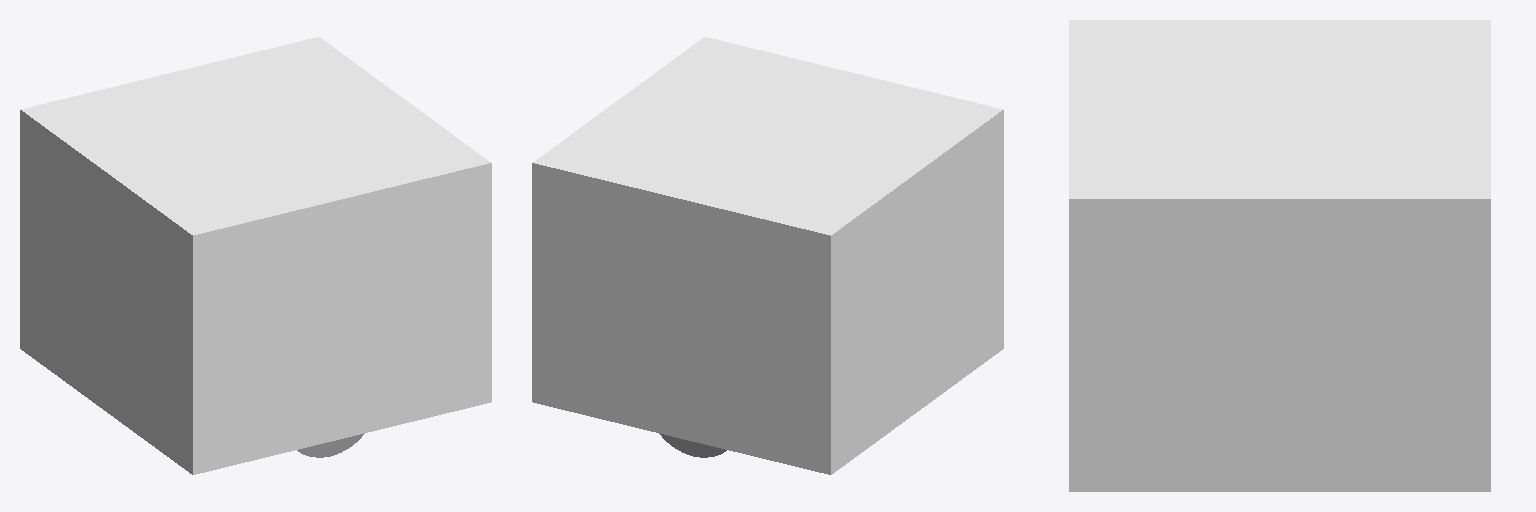
robot.urdf — toio_style:
<?xml version="1.0"?>
<robot name="toio_style">

  <!--base-->
  <link name="base_link">
    <visual>
      <geometry>
        <box size="0.3 0.3 0.23" />
      </geometry>
      <material name="white">
        <color rgba="1.0 1.0 1.0 1.0" />
      </material>
    </visual>
    <collision>
      <geometry>
        <box size="0.3 0.3 0.23" />
      </geometry>
    </collision>
    <inertial>
      <mass value="1.0" />
      <inertia ixx="0.015" iyy="0.0375" izz="0.0375" ixy="0" ixz="0" iyz="0" />
    </inertial>
  </link>

  <!--right wheel-->
  <link name="right_wheel">
    <visual>
      <geometry>
        <cylinder length="0.01" radius="0.05" />
      </geometry>
      <material name="gray">
        <color rgba="0.7 0.7 0.7 1" />
      </material>
    </visual>
    <collision>
      <geometry>
        <cylinder length="0.005" radius="0.05" />
      </geometry>
    </collision>
    <inertial>
      <mass value="0.1" />
      <inertia ixx="5.1458e-5" iyy="5.1458e-5" izz="6.125e-5" ixy="0" ixz="0" iyz="0" />
    </inertial>
  </link>
  <joint name="right_wheel_joint" type="continuous">
    <axis xyz="0 0 1" />
    <parent link="base_link" />
    <child link="right_wheel" />
    <origin rpy="-1.5708 0 0" xyz="0.0 -0.125 -.09" />
  </joint>

  <!--left wheel-->
  <link name="left_wheel">
    <visual>
      <geometry>
        <cylinder length="0.01" radius="0.05" />
      </geometry>
      <material name="gray" />
    </visual>
    <collision>
      <geometry>
        <cylinder length="0.005" radius="0.05" />
      </geometry>
    </collision>
    <inertial>
      <mass value="0.1" />
      <inertia ixx="5.1458e-5" iyy="5.1458e-5" izz="6.125e-5" ixy="0" ixz="0" iyz="0" />
    </inertial>
  </link>
  <joint name="left_wheel_joint" type="continuous">
    <axis xyz="0 0 1" />
    <parent link="base_link" />
    <child link="left_wheel" />
    <origin rpy="-1.5708 0 0" xyz="0.0 0.125 -.09" />
  </joint>
</robot>

--- Facts derived from the render (not from the file) ---
Views: 3 orthographic renders of the robot side by side, from view 1: azimuth 30°, elevation 25°; view 2: azimuth 150°, elevation 25°; view 3: azimuth 270°, elevation 25°.
Robot: toio_style — 3 links, 2 joints (2 continuous); root link base_link; default pose: every joint at zero.
Visible links, largest first — view 1: base_link, right_wheel; view 2: base_link, left_wheel; view 3: base_link.
Boxes of the visible links, x1,y1,x2,y2 form: base_link: (20,37,491,474); right_wheel: (297,433,364,457); base_link: (532,37,1003,474); left_wheel: (659,433,726,457); base_link: (1069,20,1490,491).
Bounding box of the posed robot: 0.3 × 0.3 × 0.255 m (x, y, z).
Geometry: primitives only (box / cylinder / sphere), no mesh files.